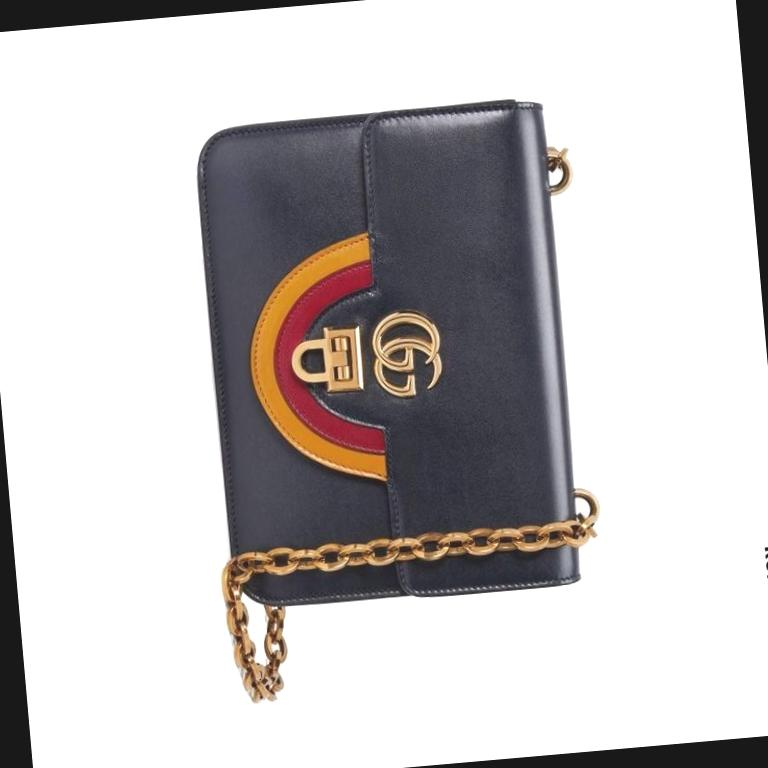GUCCI: (370, 307, 444, 401)
